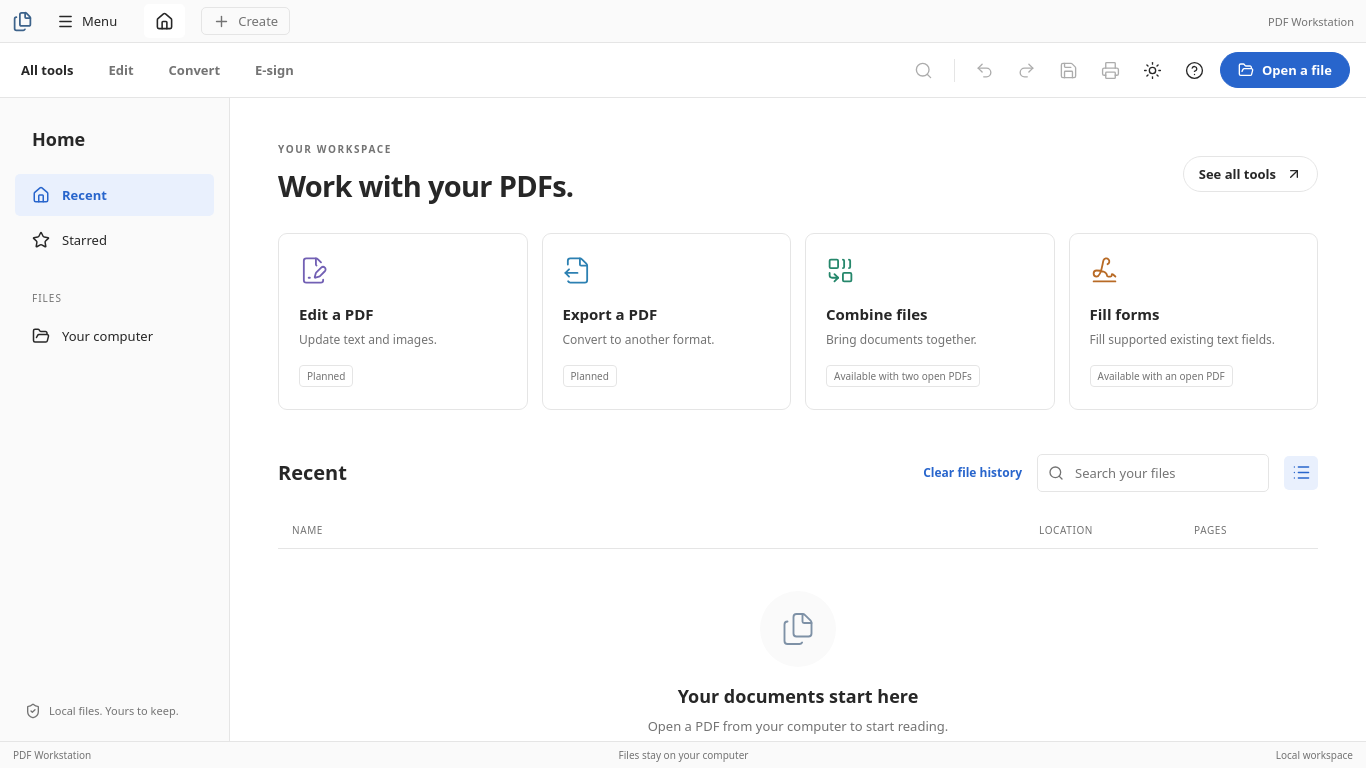
Test: opens a hidden note from the comments list without creating an on-page anchor
Click the button "Open a file" at (1285, 70), box [1220,52,1350,88]
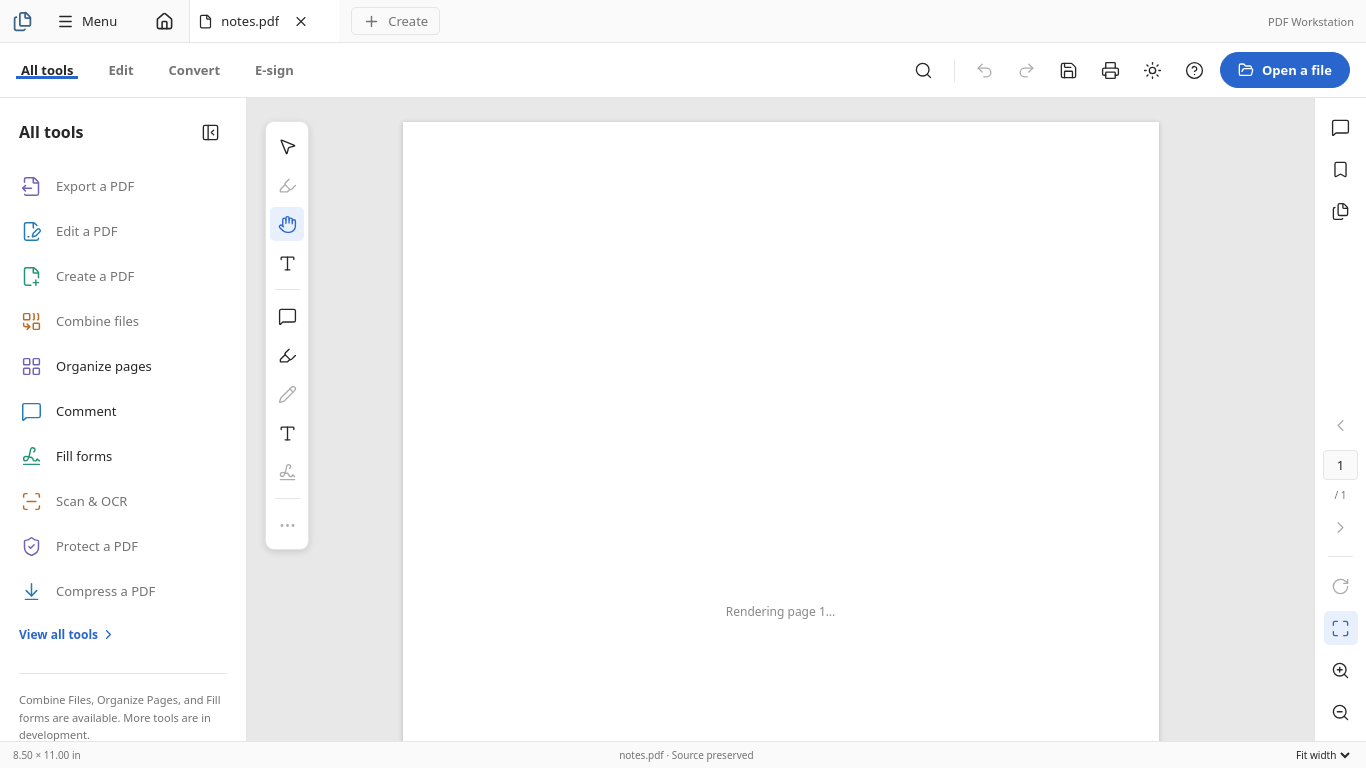
Click the button named "Comments" at (1340, 127), box [1324,110,1358,144]
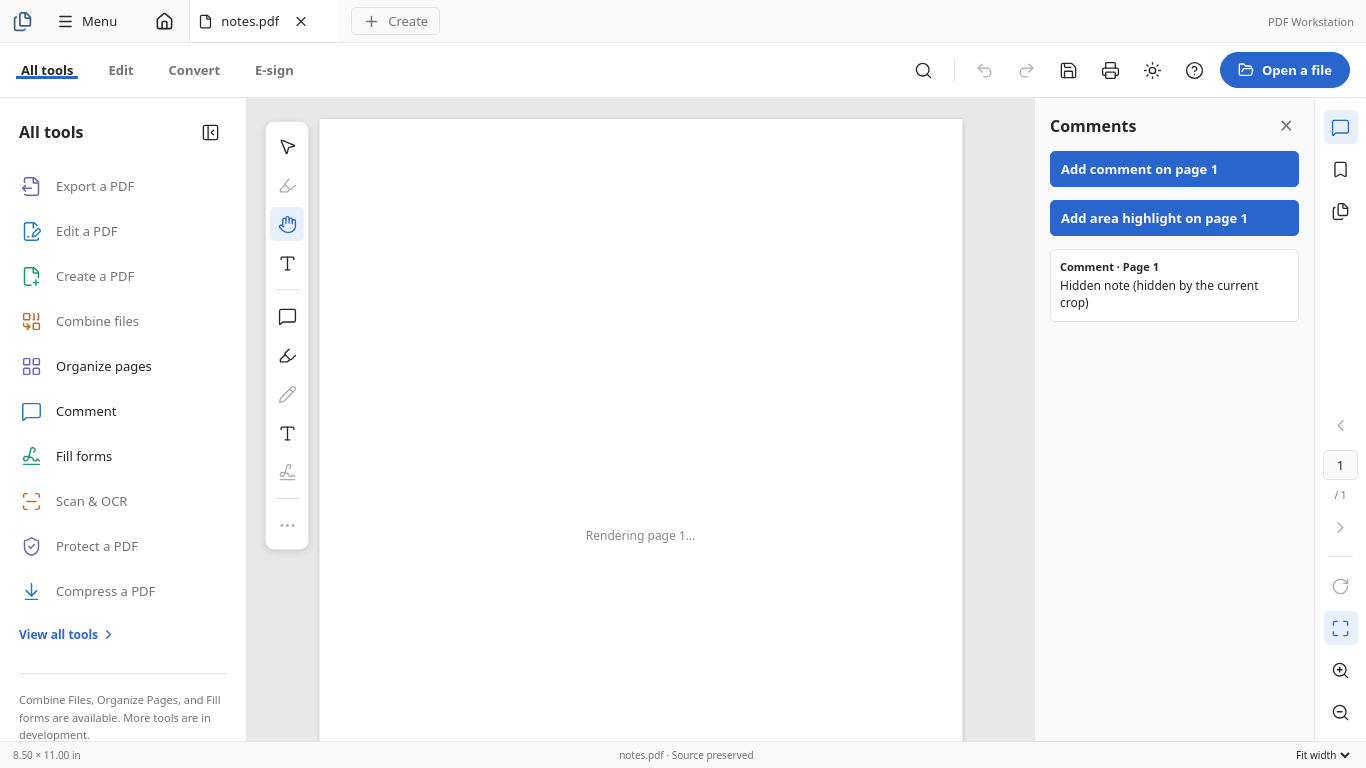
Click the button "Comment · Page 1 Hidden note (hidden by the current crop)" at (1174, 285), box [1050,249,1299,322]
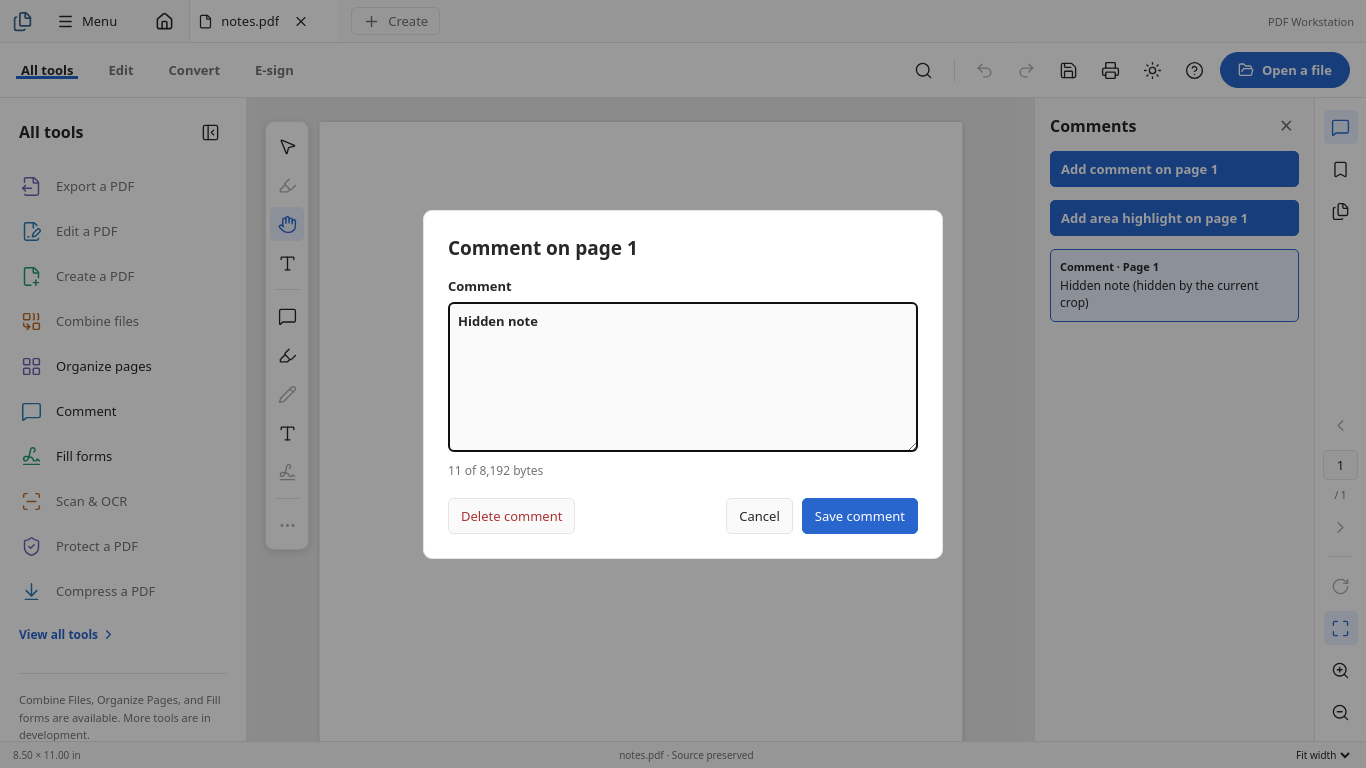
Result: the text box labelled "Comment" holds "Hidden note" at [448,302,918,452]
